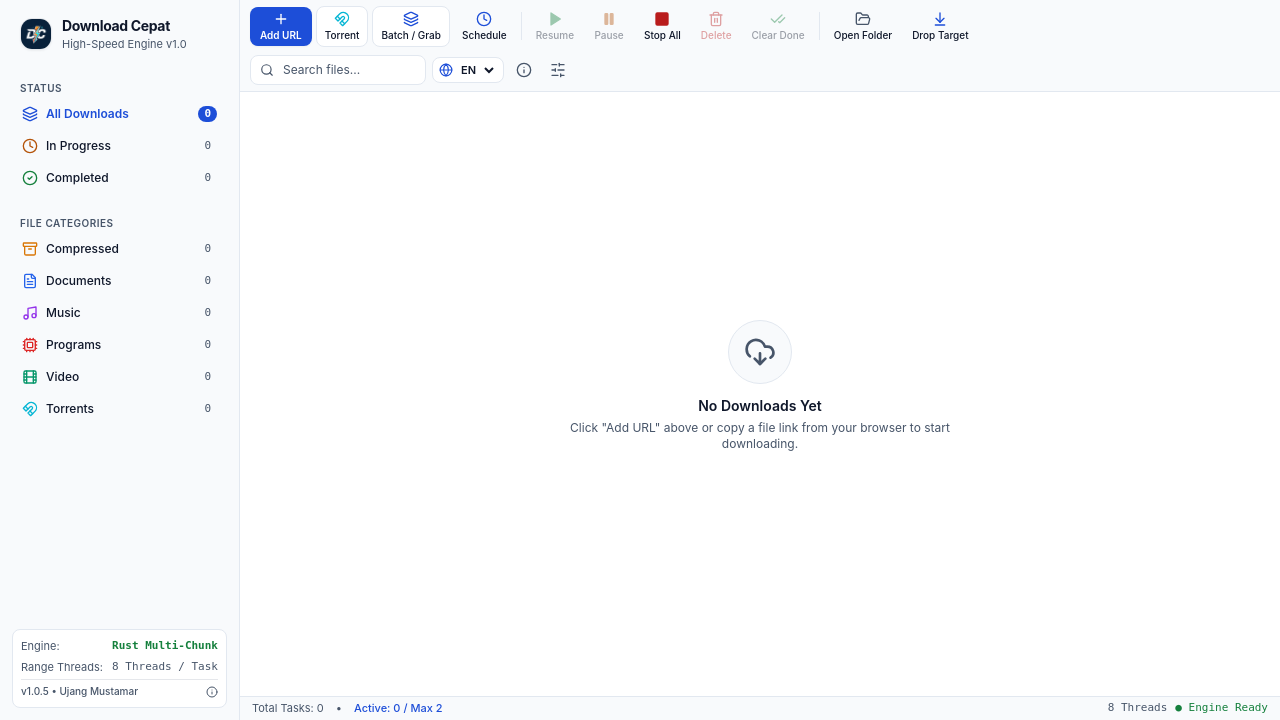
Download Cepat UI Suite › F01-H2: Opens Add URL modal and adds a new download task
Click "Add URL"
Click the button "Add URL": x=281, y=26 left=250, top=7, right=312, bottom=46
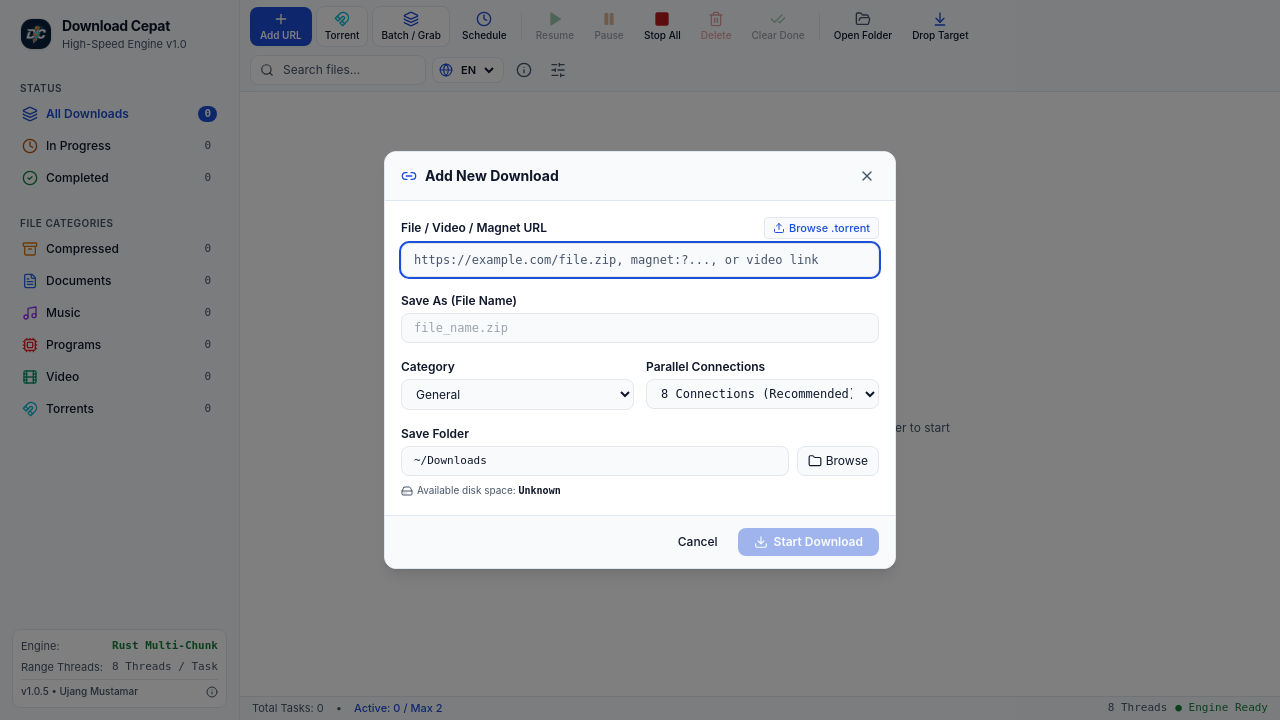
Now the heading "Add New Download" is shown, box left=425, top=166, right=559, bottom=186
Fill URL
In the field with placeholder "https://example.com/file.zip, magnet:?..., or video link": x=640, y=260 left=401, top=243, right=879, bottom=277, type "https://example.com/new_dataset.zip"
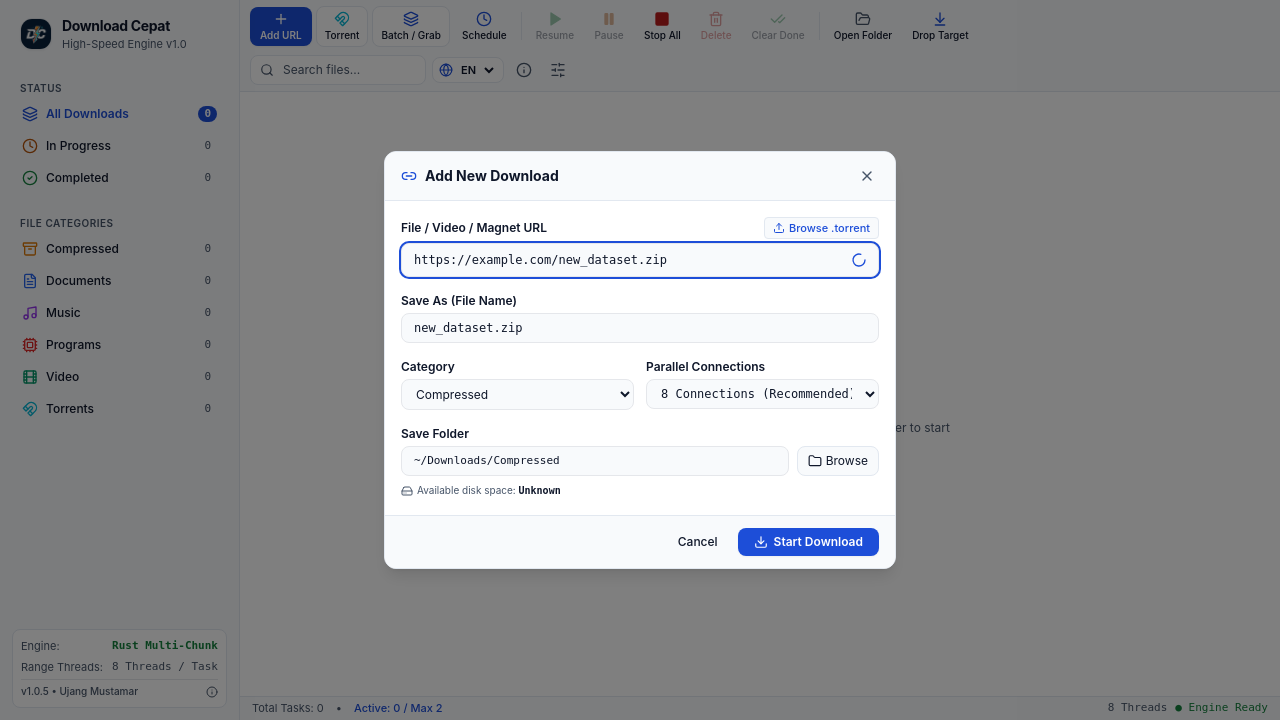
Click "Start Download"
Click the button "Start Download": x=808, y=542 left=738, top=528, right=879, bottom=556
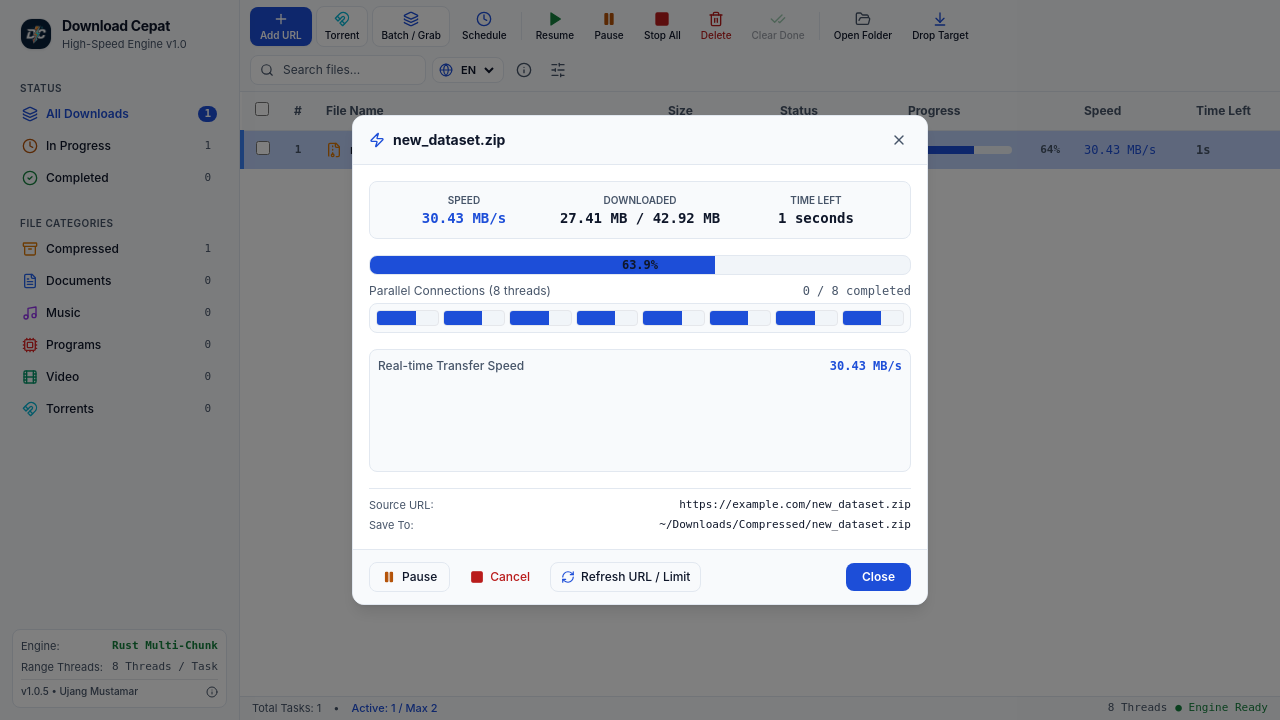
Now the heading "Add New Download" is gone
Now the text "new_dataset.zip" is shown, box left=350, top=142, right=443, bottom=158
